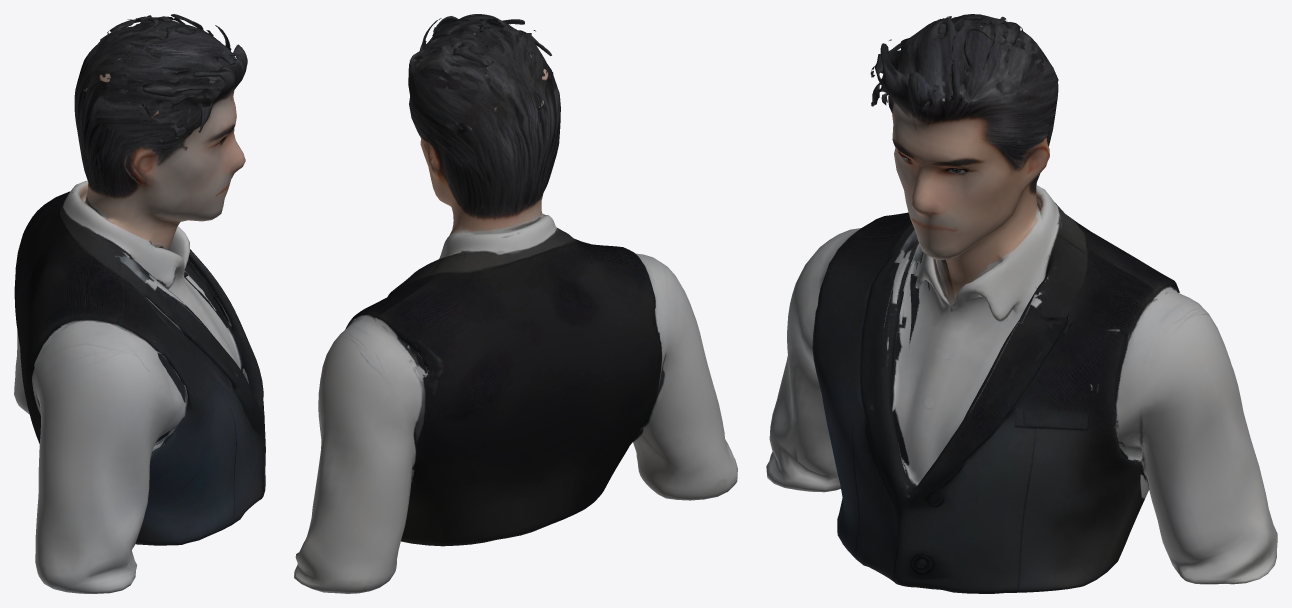
Rendered from suspect_2.glb.
3 renders of one model, left to right at view 1: azimuth 30°, elevation 25°; view 2: azimuth 150°, elevation 25°; view 3: azimuth 270°, elevation 25°, orthographic. The views are drawn at different scales.
Parts seen in each view (by area): view 1: tripo_node_c17ec5ad-3532-4d49-bc72-6224744e2e4c; view 2: tripo_node_c17ec5ad-3532-4d49-bc72-6224744e2e4c; view 3: tripo_node_c17ec5ad-3532-4d49-bc72-6224744e2e4c.
Part boxes in pixels (<box>): tripo_node_c17ec5ad-3532-4d49-bc72-6224744e2e4c: <box>14,14,265,593</box>; tripo_node_c17ec5ad-3532-4d49-bc72-6224744e2e4c: <box>294,14,737,593</box>; tripo_node_c17ec5ad-3532-4d49-bc72-6224744e2e4c: <box>766,14,1277,593</box>.
Size of the model in its own units: 0.6009 by 0.9959 by 0.8689.
1 material, 1 textured.
